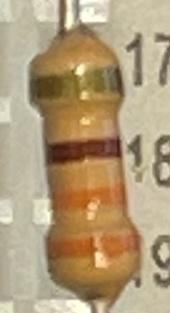Brown: (44, 134, 121, 168)
Orange: (45, 231, 138, 261), (47, 181, 128, 213)
Side-Gold: (29, 65, 122, 106)
